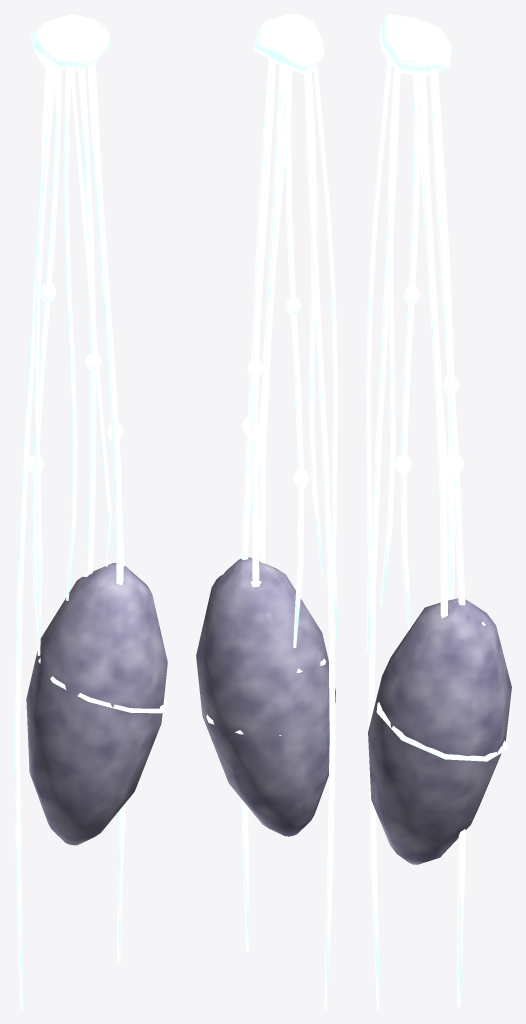
Rendered from Promenade_Hang.fbx.
3 renders of one model, left to right at view 1: azimuth 30°, elevation 25°; view 2: azimuth 150°, elevation 25°; view 3: azimuth 330°, elevation 25°, orthographic. The views are drawn at different scales.
Parts seen in each view (by area): view 1: Promenade_Hang; view 2: Promenade_Hang; view 3: Promenade_Hang.
Boxes of the visible parts, x1,y1,x2,y2 form: Promenade_Hang: (14,14,167,1009); Promenade_Hang: (196,14,337,1009); Promenade_Hang: (366,14,511,1009).
Bounding box in the file's own units: 0.4199 × 2.86 × 0.36.
